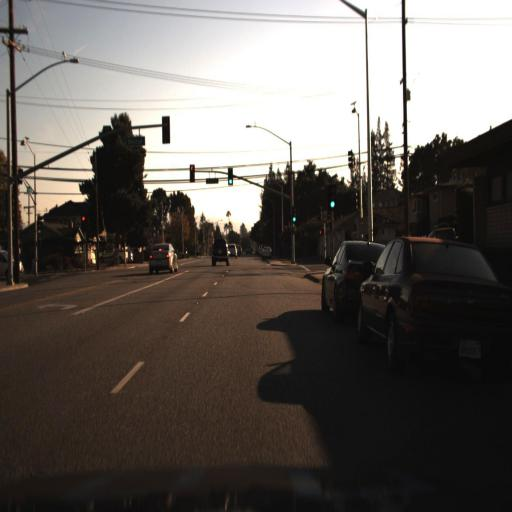car: (355, 236, 512, 386), (317, 238, 393, 319), (314, 234, 360, 338), (143, 238, 181, 279), (148, 236, 182, 281), (106, 242, 135, 267), (208, 236, 230, 266)
trafficLight-Green: (326, 185, 337, 216), (290, 198, 301, 228), (224, 164, 234, 188), (326, 198, 337, 210), (226, 175, 236, 188), (288, 213, 298, 226)
trafficLight-Red: (186, 162, 196, 178)
trafficLight-RedLeft: (185, 163, 195, 189), (81, 212, 88, 236), (78, 212, 85, 228)
